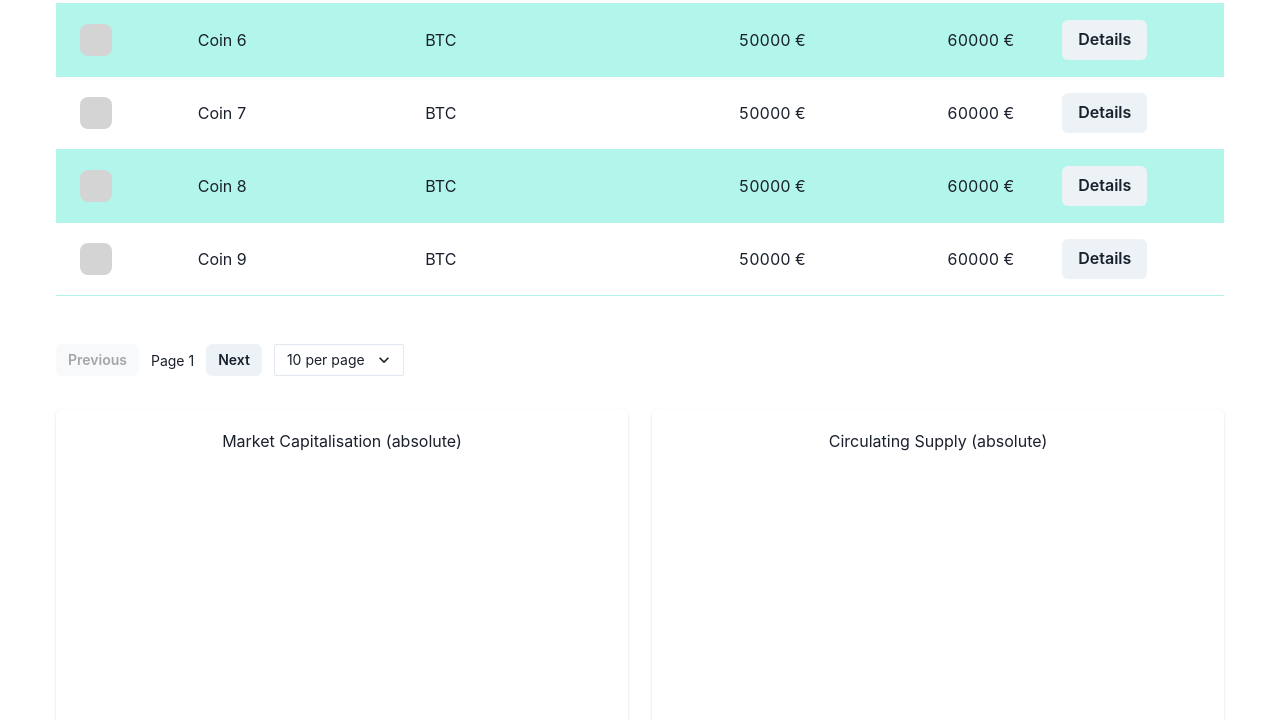
it: App pagination › requests the next page when Next is clicked
(page scrolled)
Click the button "Next" at (234, 360), box [206,344,262,376]
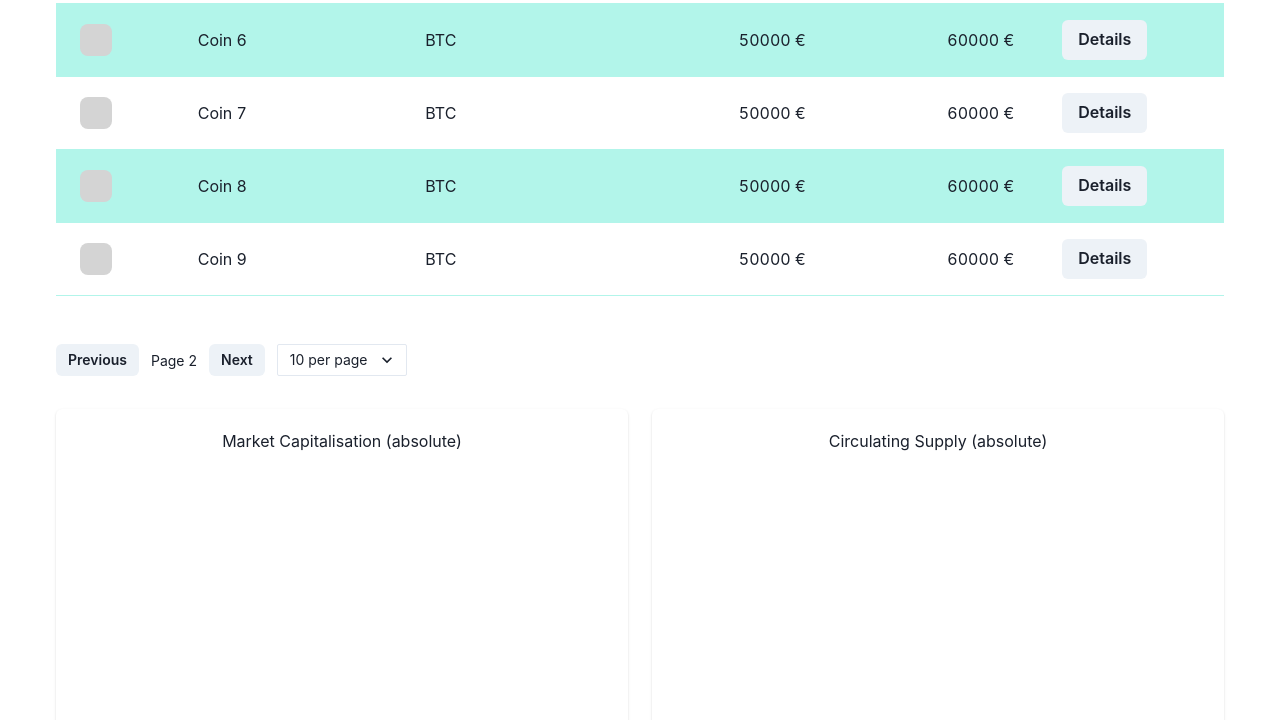
Now the text "Page 2" is shown, box [151,350,197,370]
